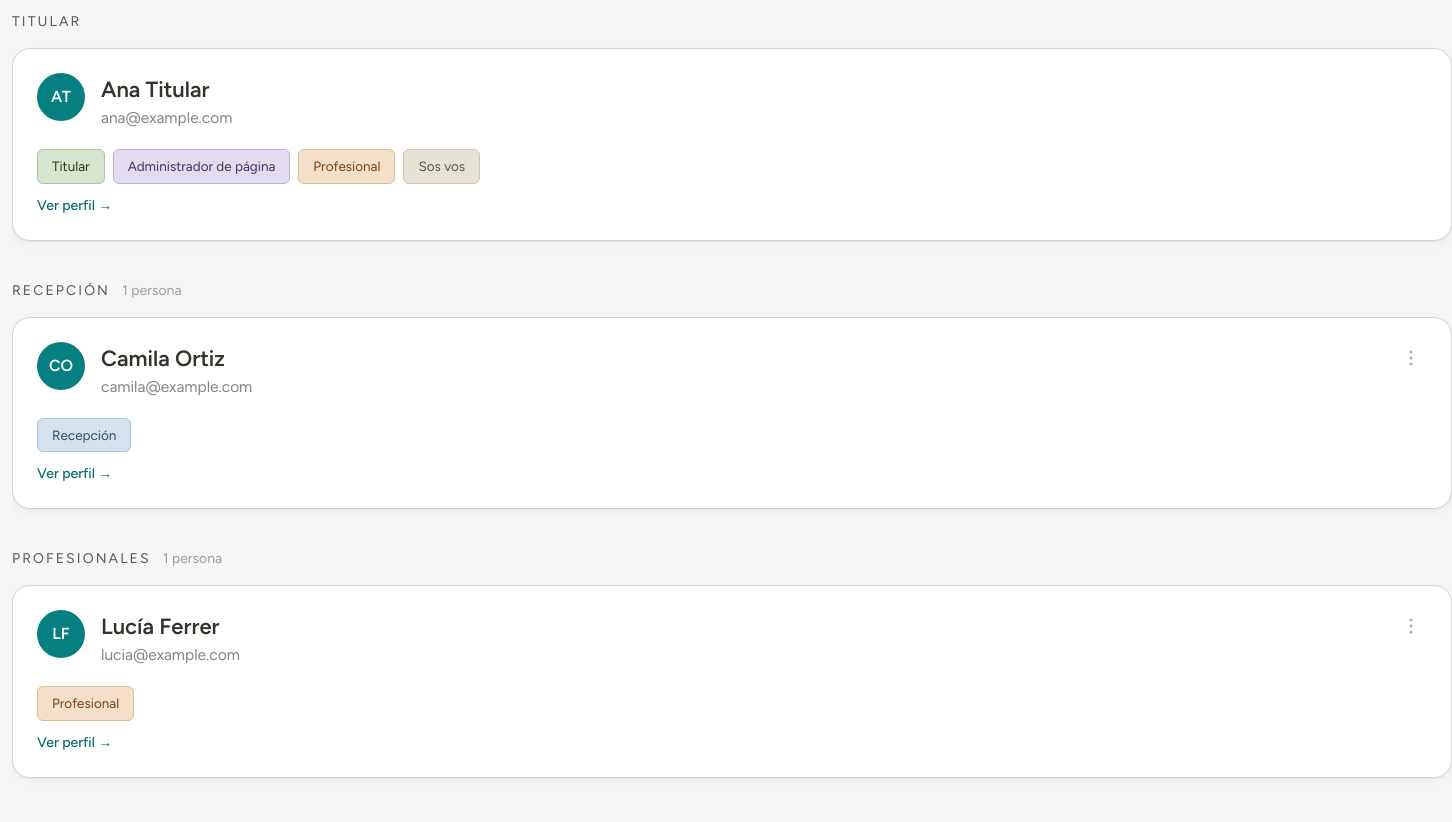
Test case: EquipoDeLaClinica (Fase 3.2.4) › el menú de acciones ofrece cambiar rol y quitar
Click the button named "Acciones de Camila Ortiz" at {"x": 1411, "y": 358}, box [1395,342,1427,374]
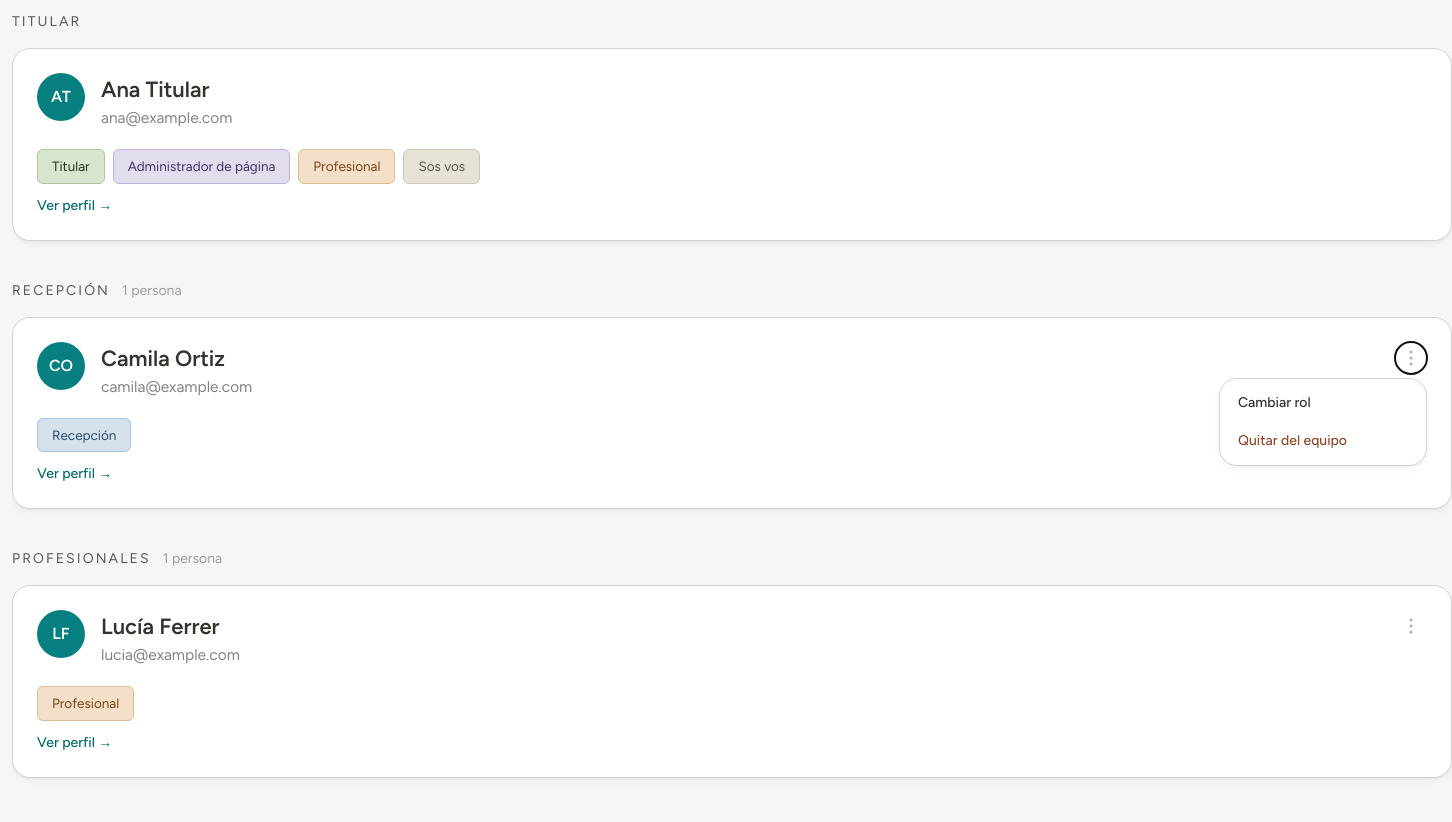
Expected: the button "Cambiar rol" is shown, [1226,384,1420,420]
Expected: the button "Quitar del equipo" is shown, [1226,422,1420,458]
